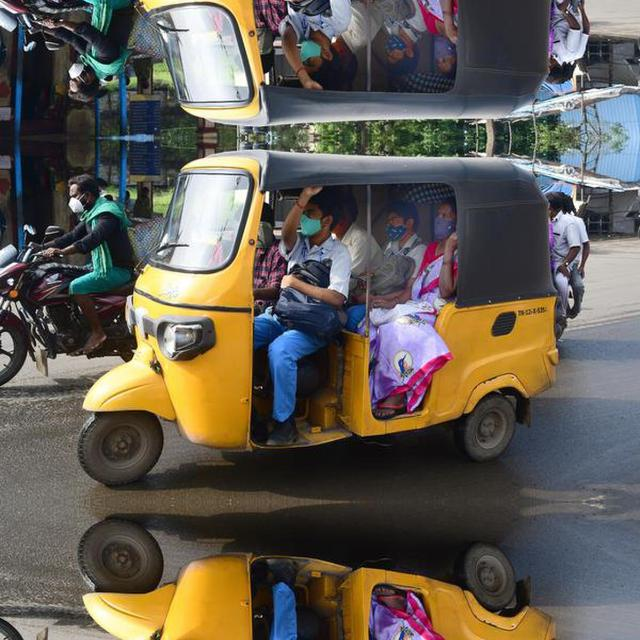auto: (161, 155, 521, 455), (161, 0, 521, 119), (161, 548, 521, 640)
person: (370, 200, 457, 419), (43, 175, 134, 353), (43, 0, 134, 100), (280, 187, 350, 308), (280, 0, 350, 88), (333, 193, 383, 302), (371, 202, 426, 301), (547, 193, 580, 326), (370, 584, 445, 639), (333, 0, 383, 82), (561, 193, 590, 318), (254, 203, 286, 315), (384, 202, 426, 278), (383, 0, 426, 73), (384, 0, 426, 73), (418, 0, 457, 75), (547, 0, 580, 82), (267, 558, 297, 639), (561, 0, 590, 82), (254, 0, 286, 72), (133, 187, 153, 219), (133, 57, 152, 88), (95, 178, 113, 200), (95, 75, 113, 97), (124, 191, 133, 213), (124, 62, 133, 84)
two wheeler: (0, 242, 90, 385), (0, 0, 89, 33), (0, 618, 23, 639)
